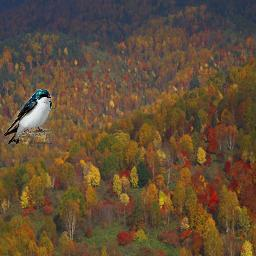Swallow: (3, 89, 52, 144)
